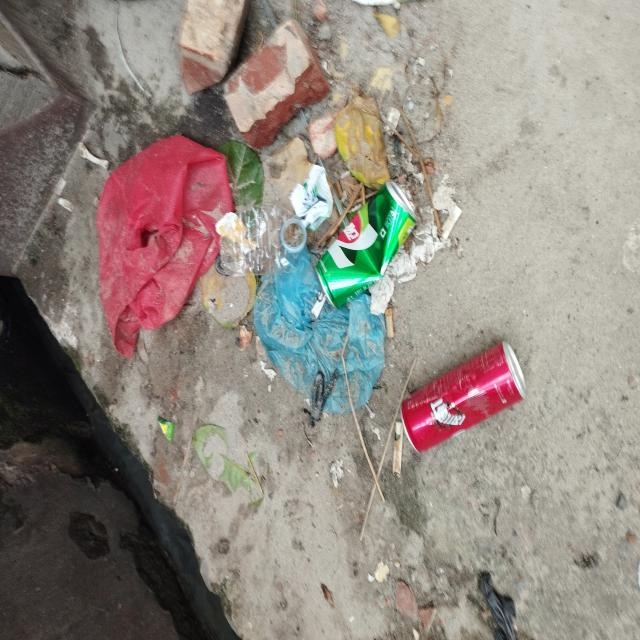aluminum: (398, 343, 528, 459), (313, 182, 420, 305)
paper: (290, 164, 333, 228)
